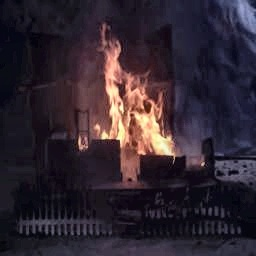fire: (86, 22, 181, 186)
